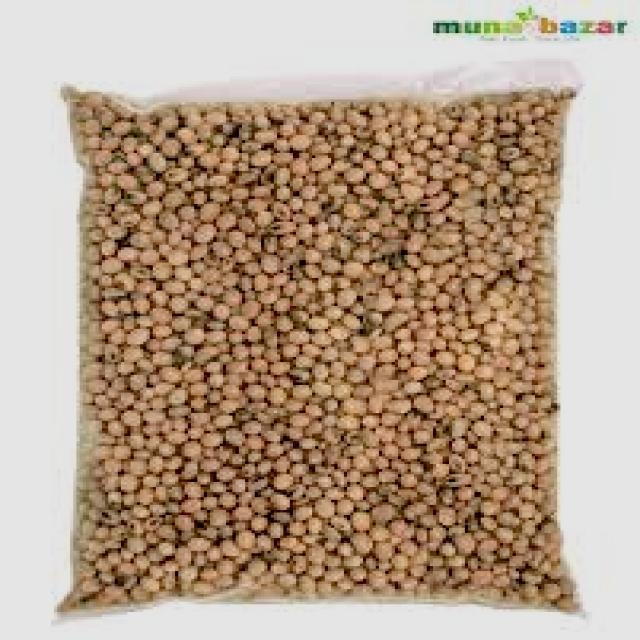Soybean: (35, 94, 602, 636)
